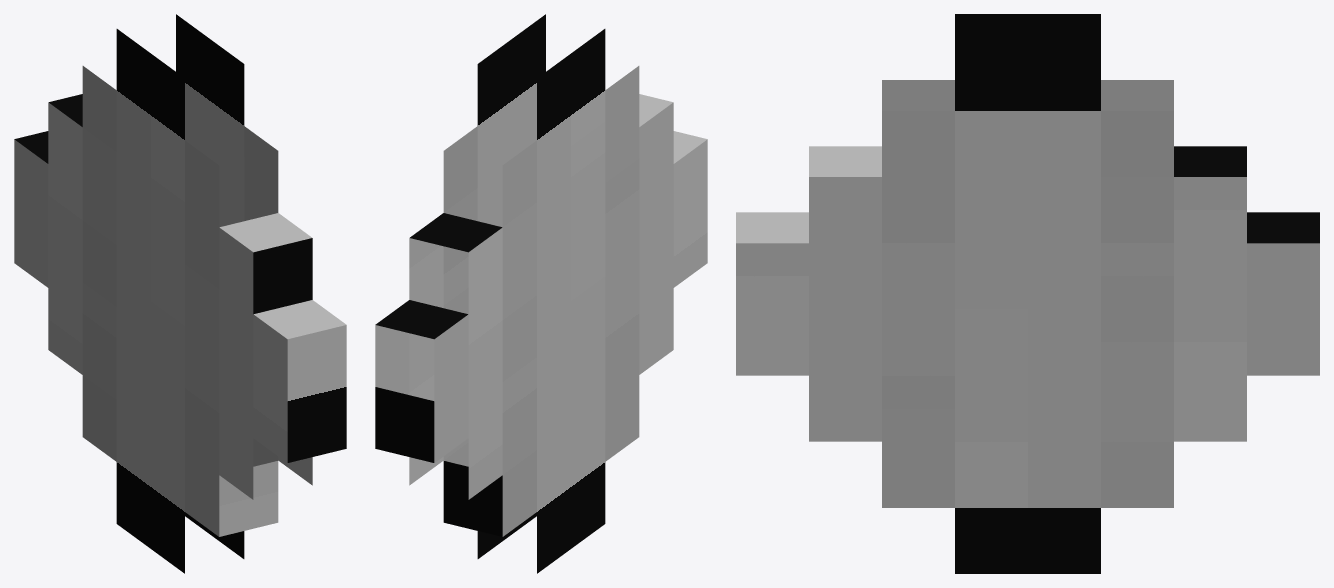
The model's file is wheel.obj.
3 renders of one model, left to right at view 1: azimuth 30°, elevation 25°; view 2: azimuth 150°, elevation 25°; view 3: azimuth 270°, elevation 25°, orthographic. The views are drawn at different scales.
Visible parts, largest first — view 1: Plane; view 2: Plane; view 3: Plane.
Boxes of the visible parts, x1,y1,x2,y2 form: Plane: [14, 14, 346, 573]; Plane: [375, 14, 707, 573]; Plane: [736, 14, 1319, 573].
Size of the model in its own units: 0.0625 by 0.5 by 0.5.
